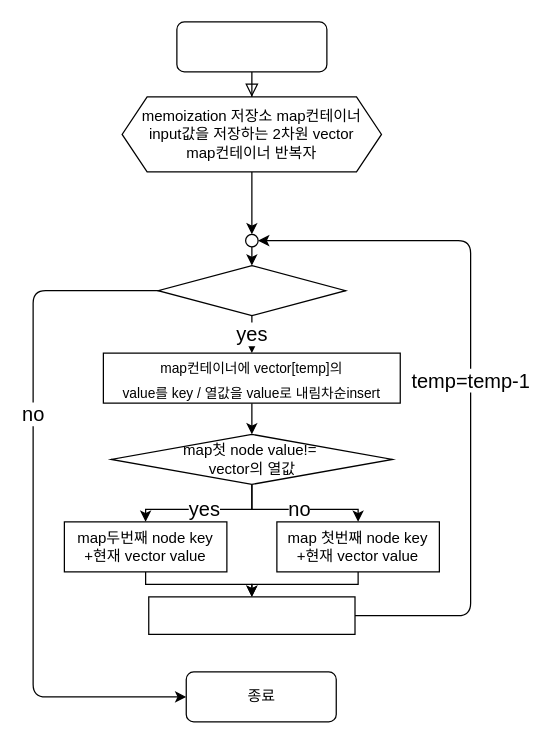
This 551x744 diagram has some shape labels left out. Each missing label, with the centre of its shape:
"map clear" goes at (x=251, y=615).
"temp->N-1 to 0" goes at (x=251, y=290).
"시작" goes at (x=251, y=46).
